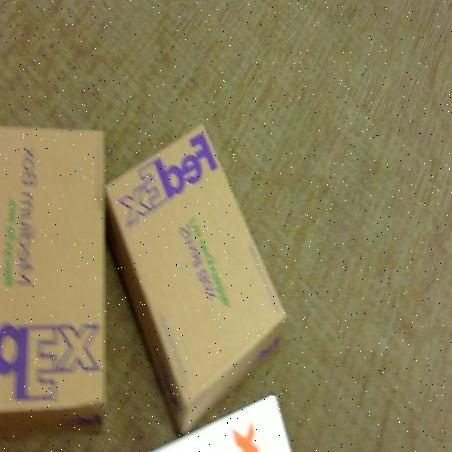Amazon: (113, 129, 280, 401), (0, 134, 101, 428), (112, 406, 296, 452)
